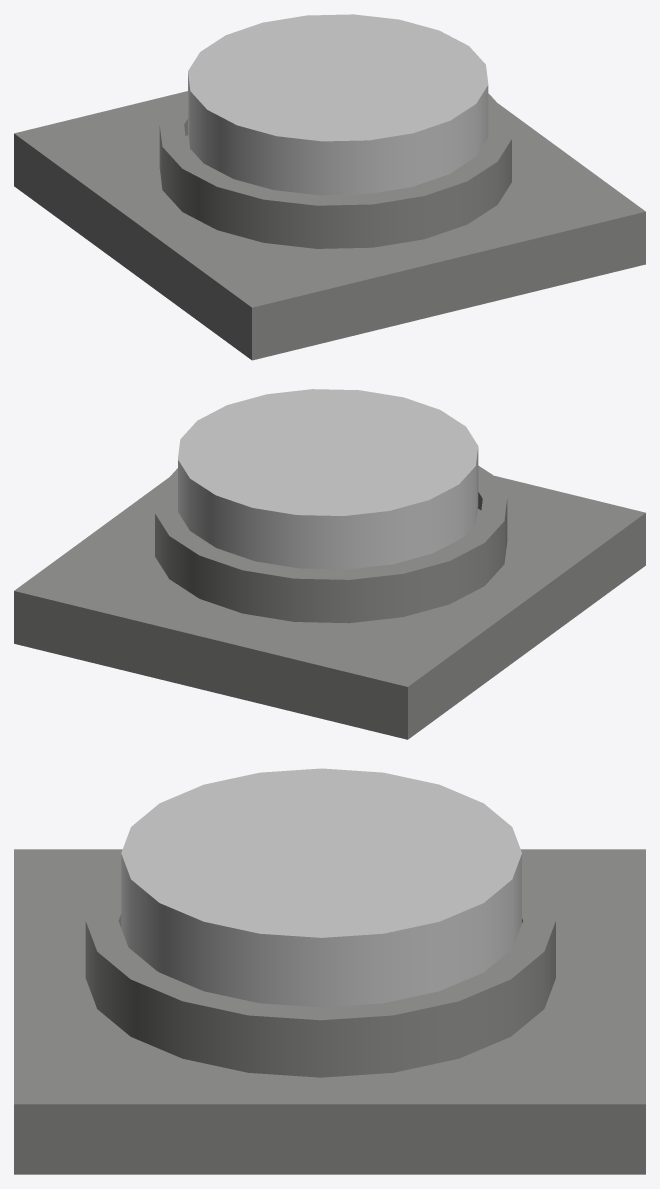
Rendered from Orange_Button_Animated.fbx.
3 views of the same model, one above another, from view 1: azimuth 30°, elevation 25°; view 2: azimuth 150°, elevation 25°; view 3: azimuth 270°, elevation 25° (orthographic). The views are drawn at different scales.
Parts seen in each view (by area): view 1: pCube3622, pCylinder14; view 2: pCube3622, pCylinder14; view 3: pCube3622, pCylinder14.
Boxes of the visible parts, bbox=[...] form: pCube3622: bbox=[14, 91, 645, 360]; pCylinder14: bbox=[188, 14, 488, 195]; pCube3622: bbox=[14, 465, 645, 739]; pCylinder14: bbox=[178, 389, 478, 569]; pCube3622: bbox=[14, 849, 645, 1174]; pCylinder14: bbox=[121, 768, 521, 1007].
Size of the model in its own units: 0.7297 by 0.2629 by 0.7642.
